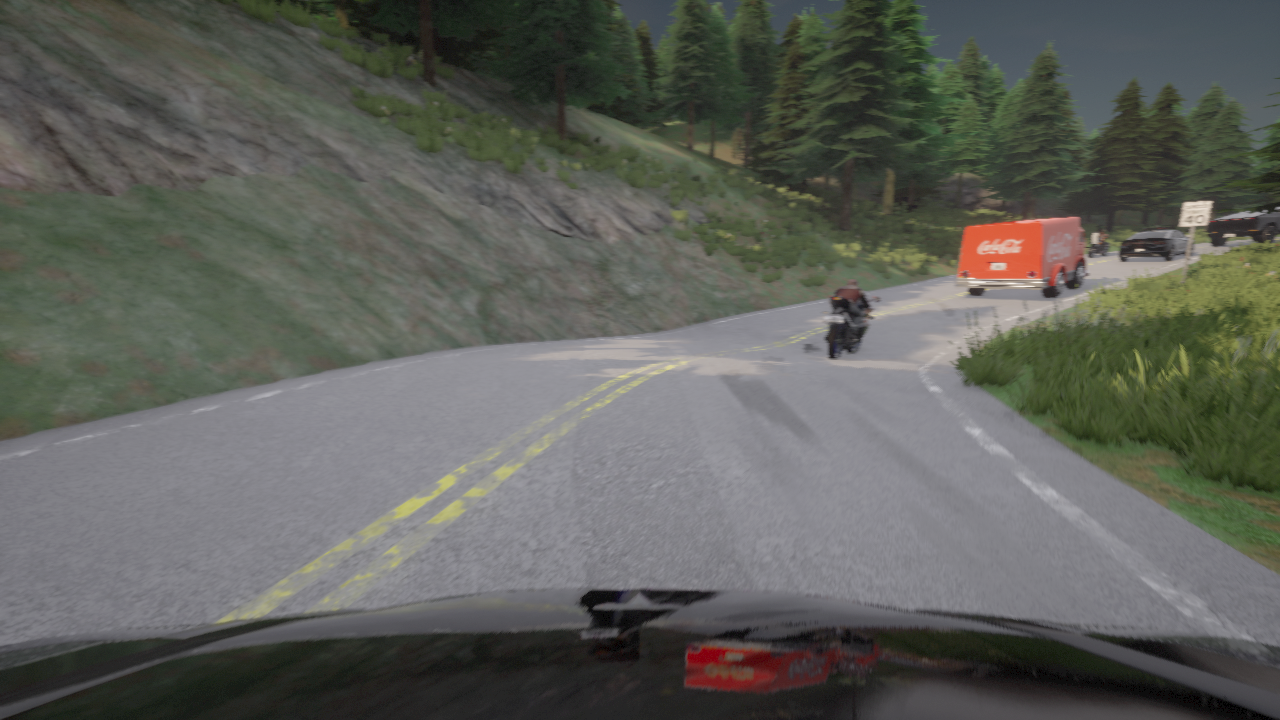cyclist: (0, 588, 1279, 719), (956, 217, 1099, 297), (822, 295, 879, 358), (1206, 207, 1279, 246), (1119, 226, 1194, 260), (1088, 236, 1110, 257)
